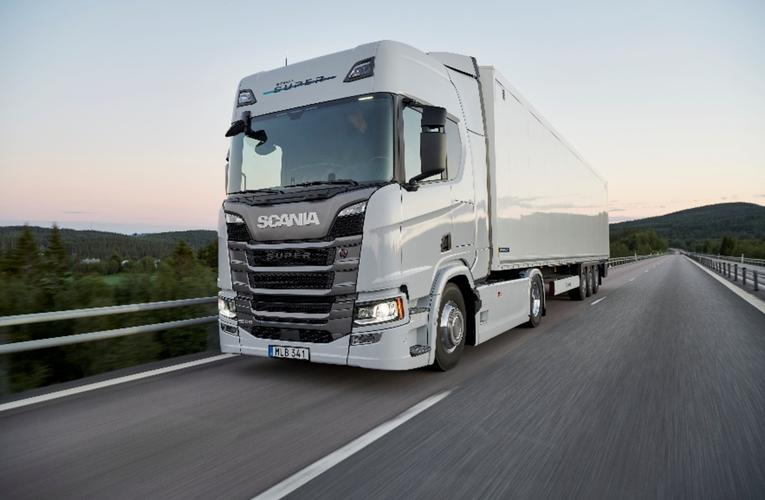卡车: (212, 41, 616, 381)
